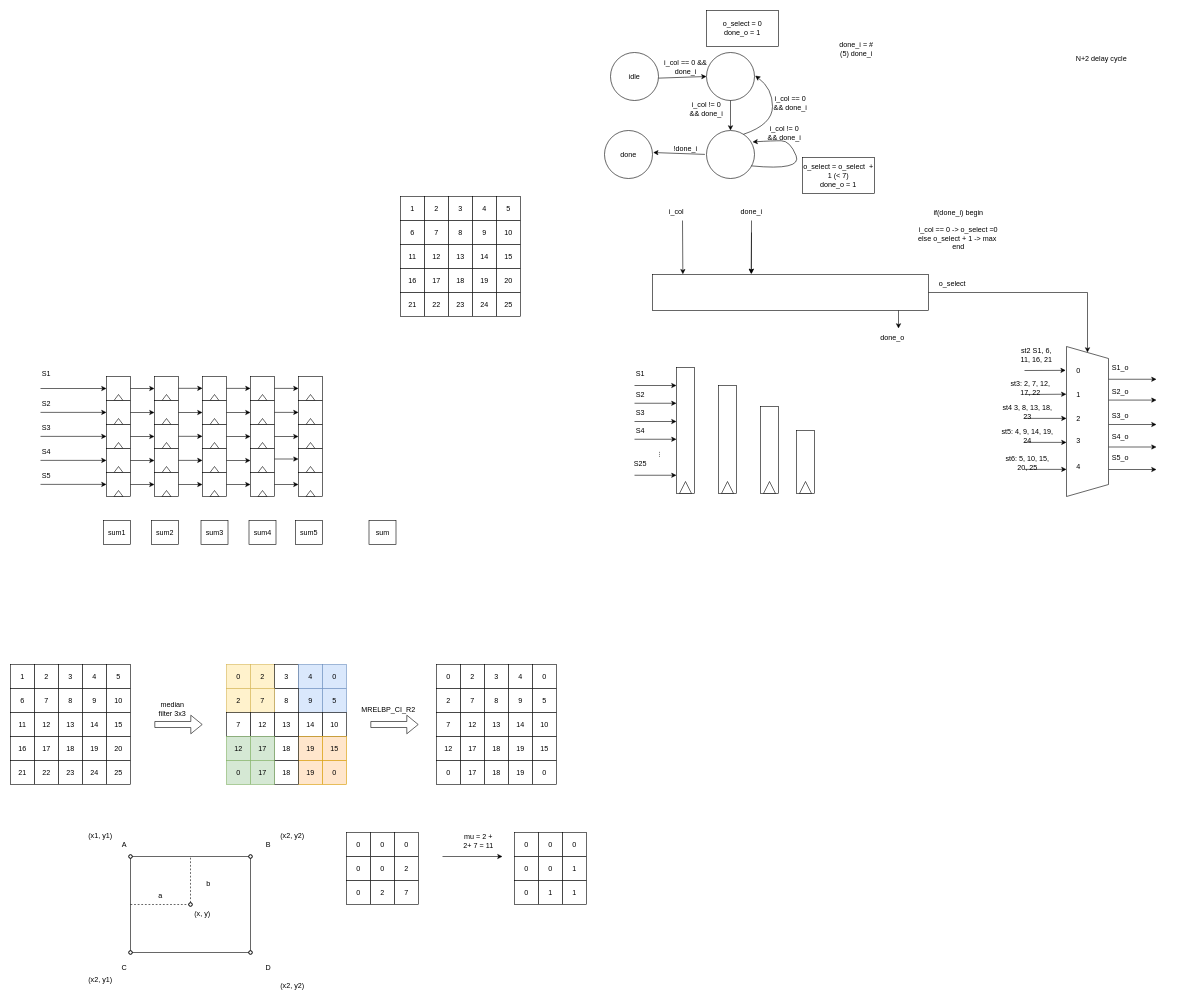
This 1179x1005 diagram has some shape labels left out. Each missing label, with the centre of its shape:
"act" goes at [730,154].
"Controller" goes at [790,292].
"row_start" goes at [730,76].
